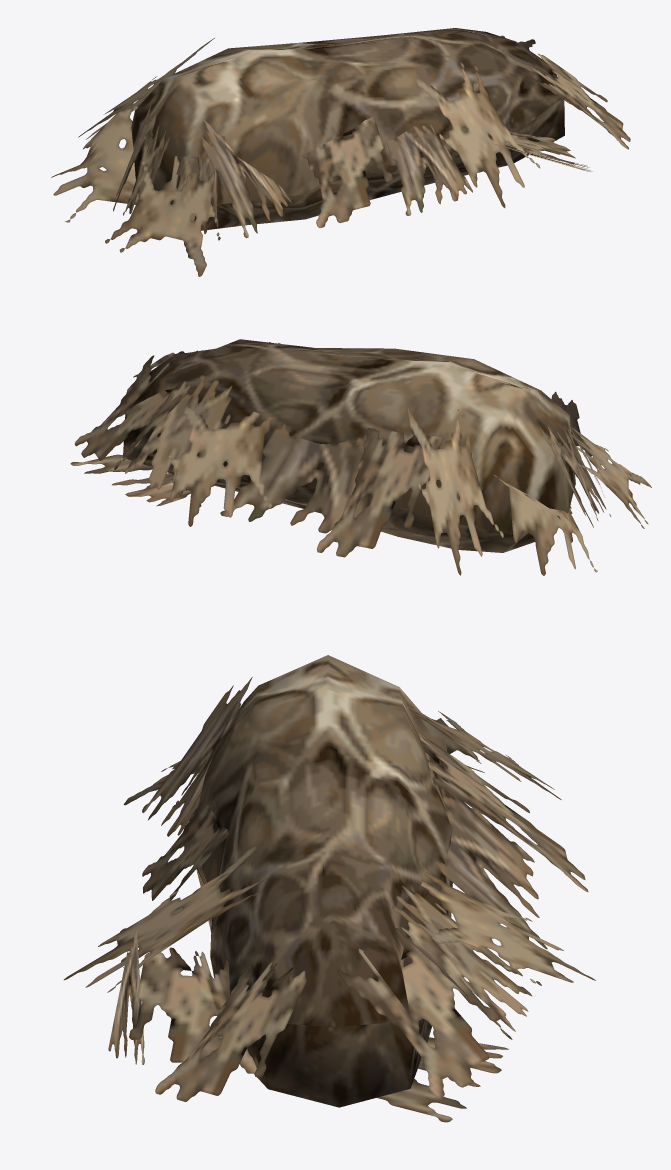
Rendered from webbed_victim10_2c607095.glb.
3 views of the same model, one above another, from view 1: azimuth 30°, elevation 25°; view 2: azimuth 150°, elevation 25°; view 3: azimuth 270°, elevation 25° (orthographic). The views are drawn at different scales.
Size of the model in its own units: 2.26 by 0.5478 by 1.53.
1 material, 1 textured.
